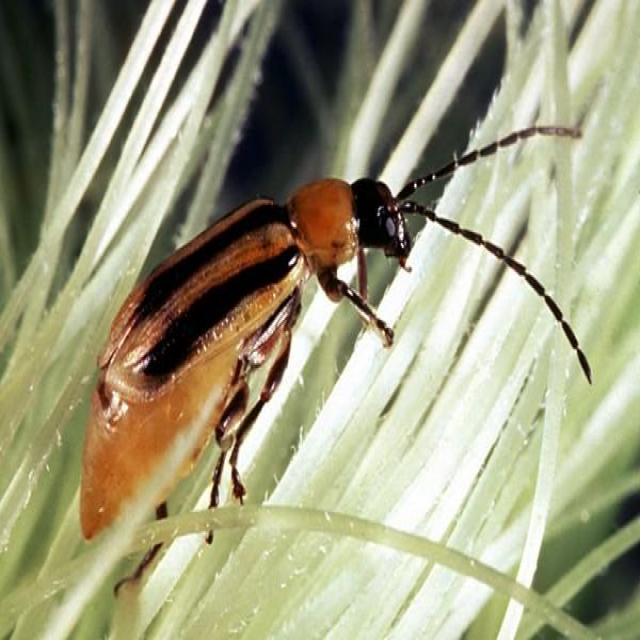trips: (80, 127, 591, 598)
